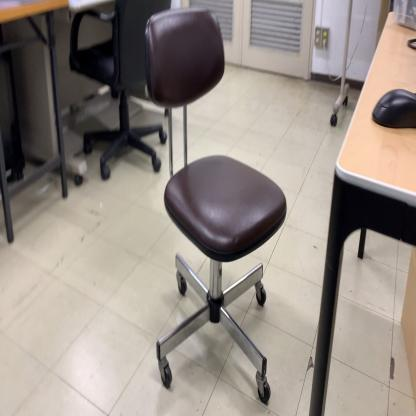chair: (143, 6, 288, 406), (66, 0, 172, 181)
